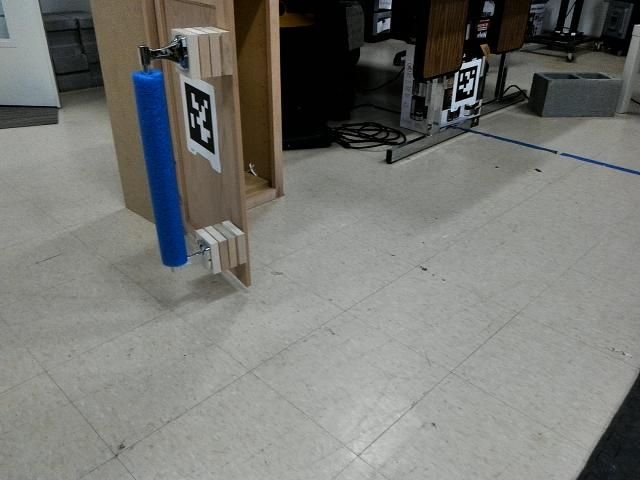noodle_handle: (128, 64, 202, 268)
